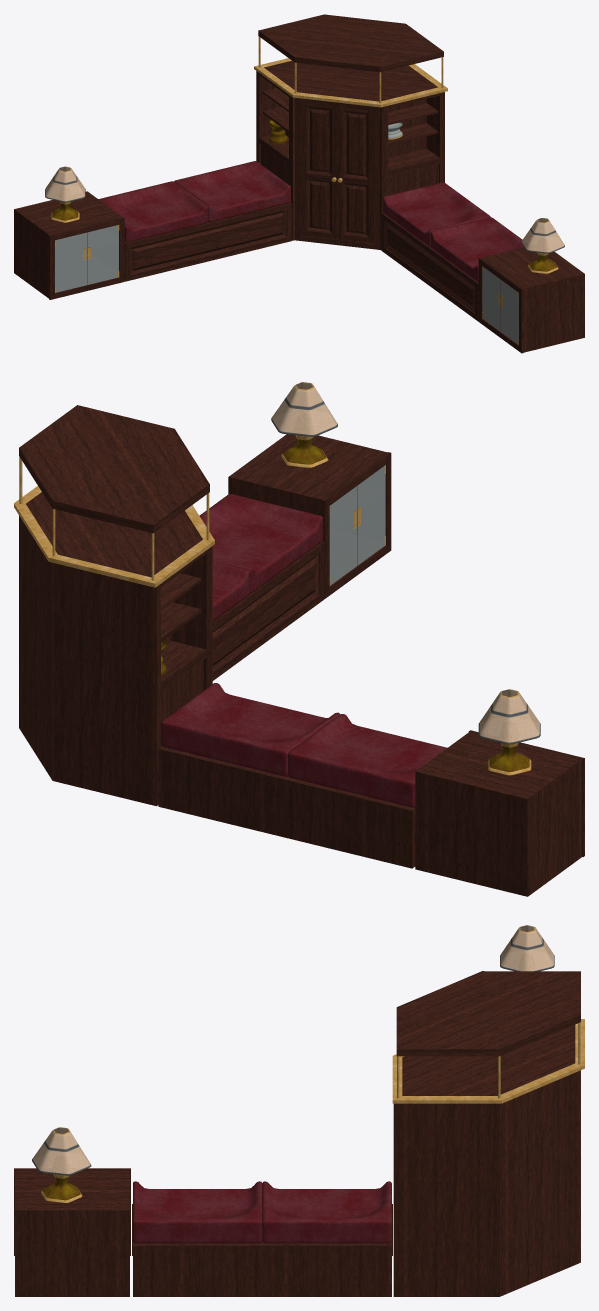
File: corner_furniture_set.glb
3 renders of one model, top to bottom at view 1: azimuth 30°, elevation 25°; view 2: azimuth 150°, elevation 25°; view 3: azimuth 270°, elevation 25°, orthographic. The views are drawn at different scales.
Visible parts, largest first — view 1: Material2 (×6); view 2: Material2 (×6); view 3: Material2 (×5).
Part boxes in pixels (x1,y1,x2,y2): Material2 (×6): (14,14,584,353); Material2 (×6): (14,382,584,896); Material2 (×5): (14,925,584,1296).
Bounding box in the file's own units: 144 × 69.12 × 144.
6 materials, 5 textured.
